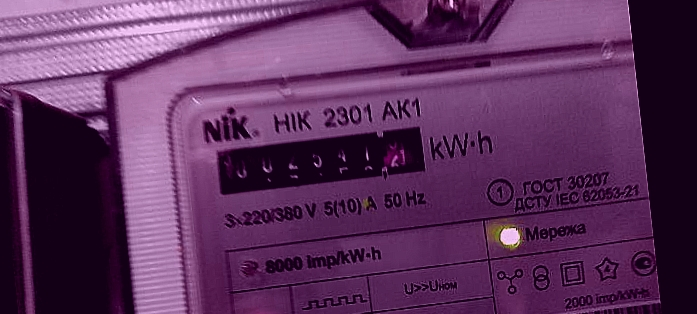0: (230, 153, 250, 181), (257, 147, 274, 176)
1: (356, 135, 372, 163)
2: (281, 144, 299, 171)
4: (333, 138, 348, 162)
5: (306, 141, 327, 170)
6: (385, 148, 402, 168)
screen: (201, 111, 441, 206)
